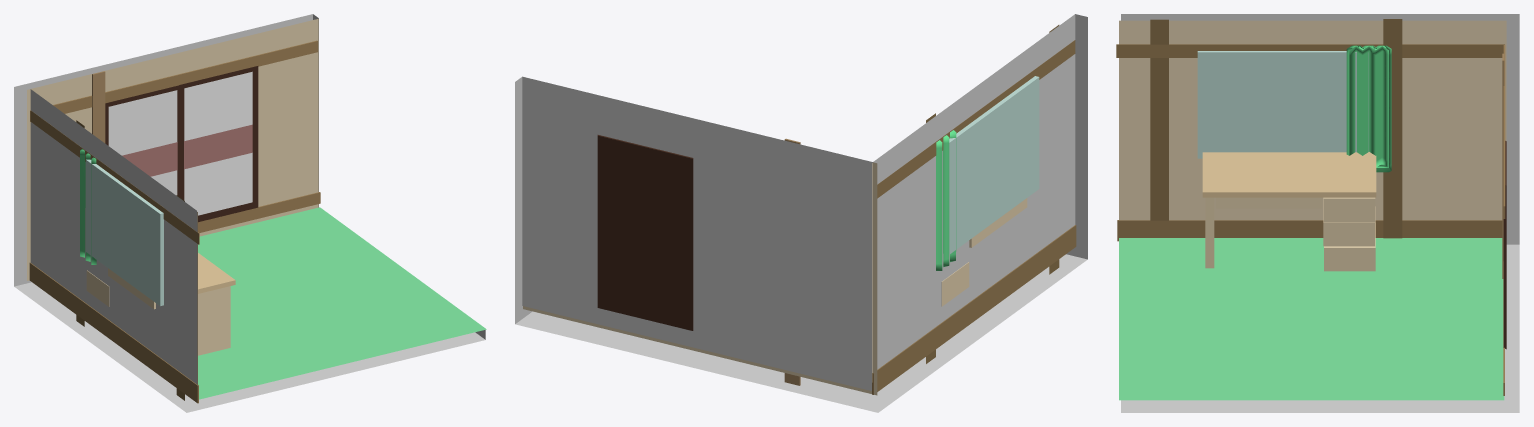
The model's file is heya.glb.
The picture shows the model from 3 angles, left to right: view 1: azimuth 30°, elevation 25°; view 2: azimuth 150°, elevation 25°; view 3: azimuth 270°, elevation 25°; orthographic projection. The views are drawn at different scales.
Parts seen in each view (by area): view 1: floor, room, 平面.003, 立方体.006, 平面.012, 平面.011, 平面.002, 平面.006, 平面.013, 立方体.001, 平面.014, 平面.005 (+7 smaller); view 2: room, 平面.013, 立方体.006, 平面.002, 平面.003, 平面.005, カーテン, 立方体.007, 立方体; view 3: floor, 平面.004, 立方体.006, room, 立方体.002, 平面.002, カーテン, 平面.005, 平面.001, 平面, 立方体.004, 立方体.003 (+6 smaller).
Boxes of the visible parts, bbox=[...] form: floor: bbox=[198, 207, 486, 399]; room: bbox=[14, 14, 485, 412]; 平面.003: bbox=[27, 19, 318, 280]; 立方体.006: bbox=[86, 159, 163, 306]; 平面.012: bbox=[184, 71, 252, 215]; 平面.011: bbox=[108, 90, 177, 195]; 平面.002: bbox=[29, 262, 198, 403]; 平面.006: bbox=[30, 40, 317, 121]; 平面.013: bbox=[179, 66, 258, 222]; 立方体.001: bbox=[198, 286, 230, 355]; 平面.014: bbox=[184, 124, 252, 169]; 平面.005: bbox=[31, 110, 199, 244]; room: bbox=[515, 14, 1087, 412]; 平面.013: bbox=[597, 135, 693, 330]; 立方体.006: bbox=[949, 76, 1039, 254]; 平面.002: bbox=[872, 225, 1076, 394]; 平面.003: bbox=[523, 162, 877, 395]; 平面.005: bbox=[877, 40, 1075, 198]; カーテン: bbox=[936, 130, 956, 270]; 立方体.007: bbox=[941, 262, 969, 306]; 立方体: bbox=[969, 198, 1027, 247]; floor: bbox=[1119, 238, 1504, 400]; 平面.004: bbox=[1119, 20, 1506, 220]; 立方体.006: bbox=[1197, 51, 1368, 158]; room: bbox=[1121, 14, 1519, 412]; 立方体.002: bbox=[1202, 152, 1376, 197]; 平面.002: bbox=[1117, 220, 1502, 241]; カーテン: bbox=[1346, 45, 1391, 172]; 平面.005: bbox=[1116, 44, 1504, 57]; 平面.001: bbox=[1150, 19, 1168, 220]; 平面: bbox=[1383, 19, 1402, 238]; 立方体.004: bbox=[1324, 206, 1375, 271]; 立方体.003: bbox=[1323, 197, 1375, 222].
Size of the model in its own units: 10.18 by 6.79 by 10.28.
